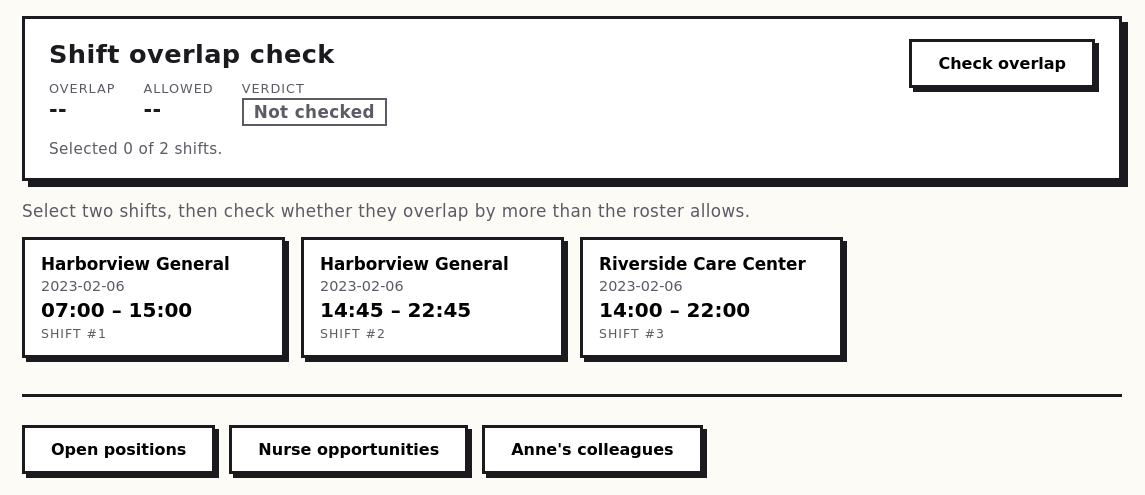
checking two shifts shows the verdict returned by the API
Click the text "Shift #1".
click(74, 334)  # box [41,326,107,341]
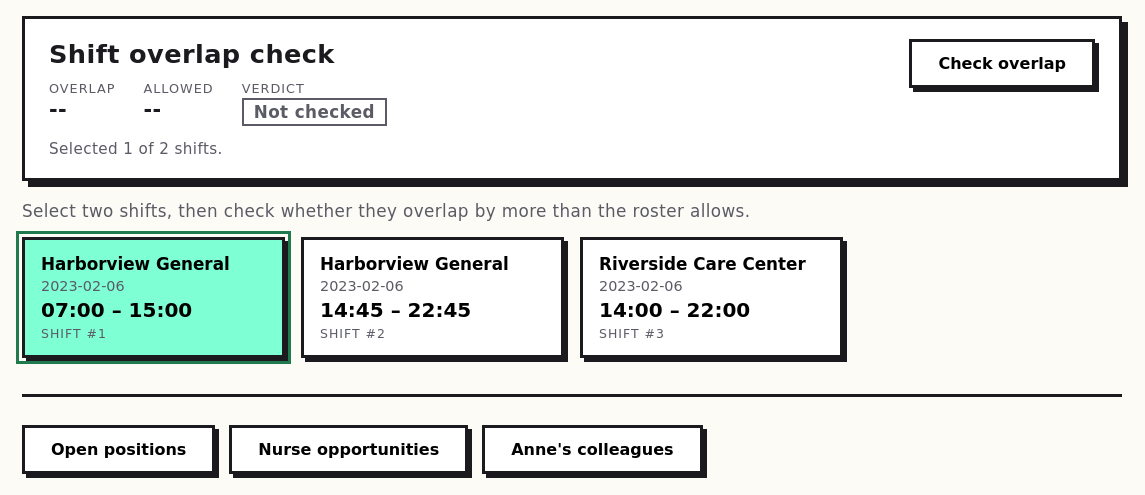
Click the text "Shift #2".
click(353, 334)  # box [320,326,386,341]
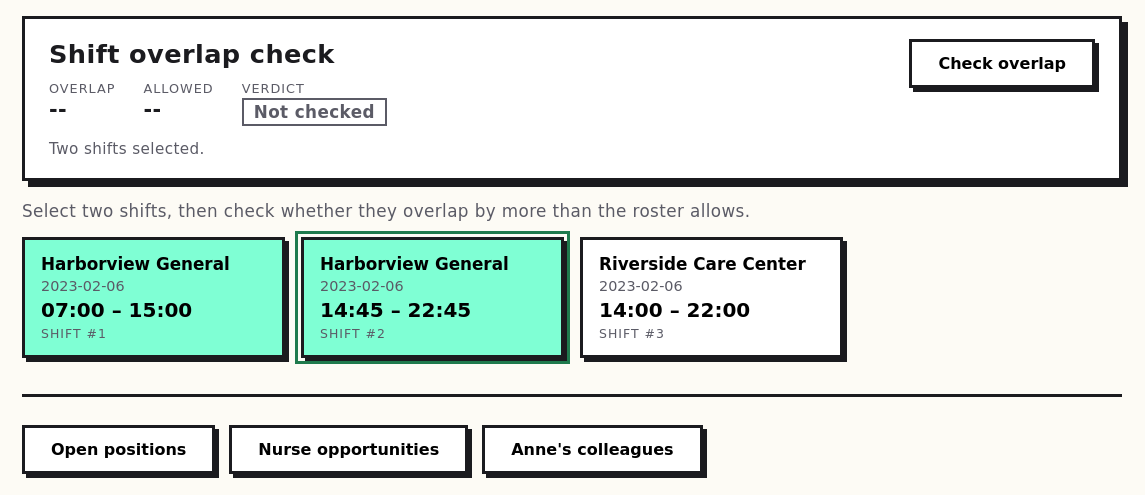
Click the button "Check overlap".
click(1002, 64)  # box [909,39,1095,88]
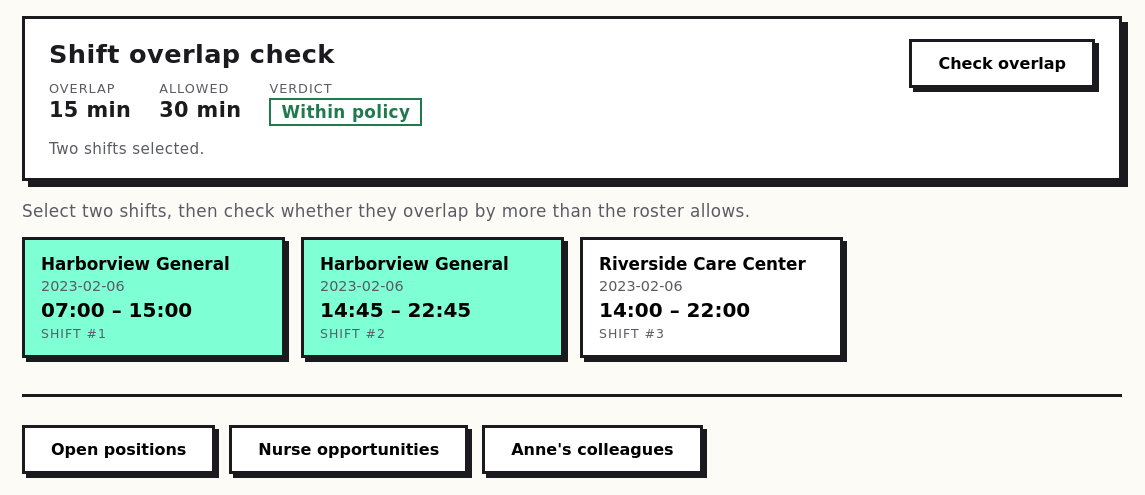
Expected: the text "Within policy" is shown, [269,98,422,126]
Expected: the text "15 min" is shown, [49,98,131,122]
